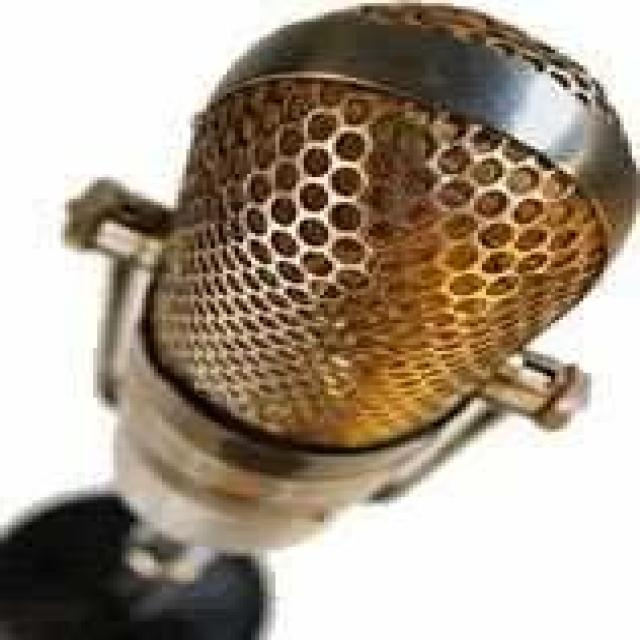microphone: (68, 10, 640, 547)
